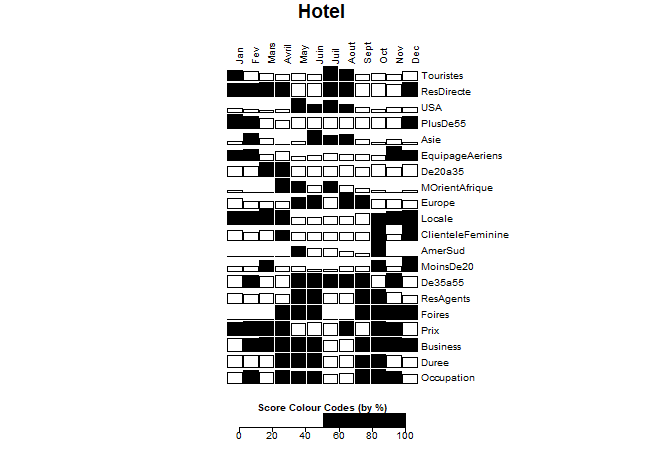

This screenshot's page, from the dashboard's own definition file:
{"tool":"powerbi","page":{"name":"Page 2","canvas":[1280,720],"ordinal":1},"visuals":[{"type":"Histogram1445664487616","fields":{"Values":["w33.empresas"]},"box":[16,0,624,368],"z":0},{"type":"scriptVisual","fields":{"Values":["w33.region","w33.empresas"]},"box":[0,360,648,360],"z":1},{"type":"scriptVisual","fields":{"Values":["w33.empresas","w33.region"]},"box":[648,0,624,648],"z":2}]}

Visuals, with their boxes on the page's 1280x720 design canvas (x1, y1, x2, y2). These are canvas units, not pixel positions in the 645x450 screenshot, which may show the page scaled, cropped or inside an application window:
Histogram1445664487616 - w33.empresas: select_region(16, 0, 640, 368)
scriptVisual - w33.region x w33.empresas: select_region(0, 360, 648, 720)
scriptVisual - w33.empresas x w33.region: select_region(648, 0, 1272, 648)
